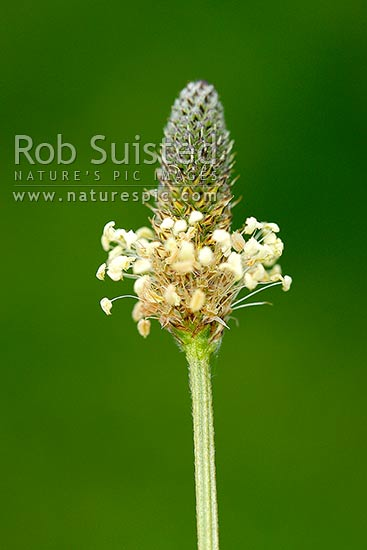buckhorn plantain: (97, 63, 314, 497)
